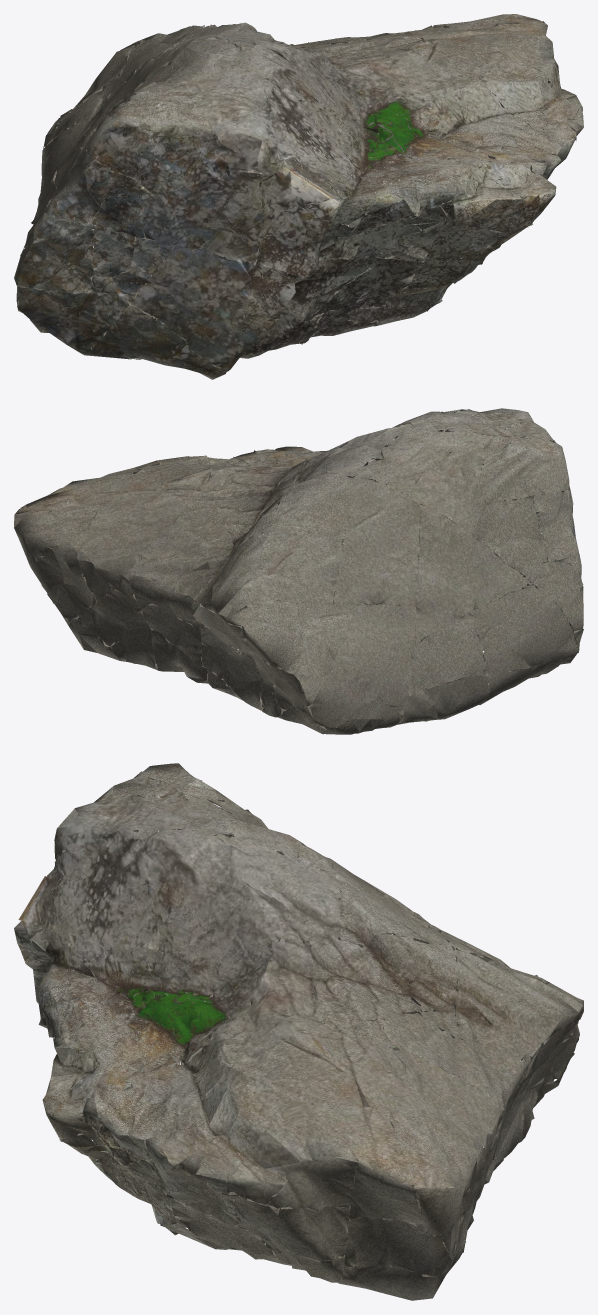
The model's file is rock_b_mobile.glb.
The picture shows the model from 3 angles, top to bottom: view 1: azimuth 30°, elevation 25°; view 2: azimuth 150°, elevation 25°; view 3: azimuth 270°, elevation 25°; orthographic projection. The views are drawn at different scales.
Parts seen in each view (by area): view 1: Mesh_0; view 2: Mesh_0; view 3: Mesh_0.
Part boxes in pixels (x1,y1,x2,y2): Mesh_0: [14, 14, 583, 379]; Mesh_0: [14, 408, 583, 734]; Mesh_0: [14, 763, 583, 1300].
Bounding box in the file's own units: 1.9 × 0.8672 × 1.4.
1 material, 1 textured.
